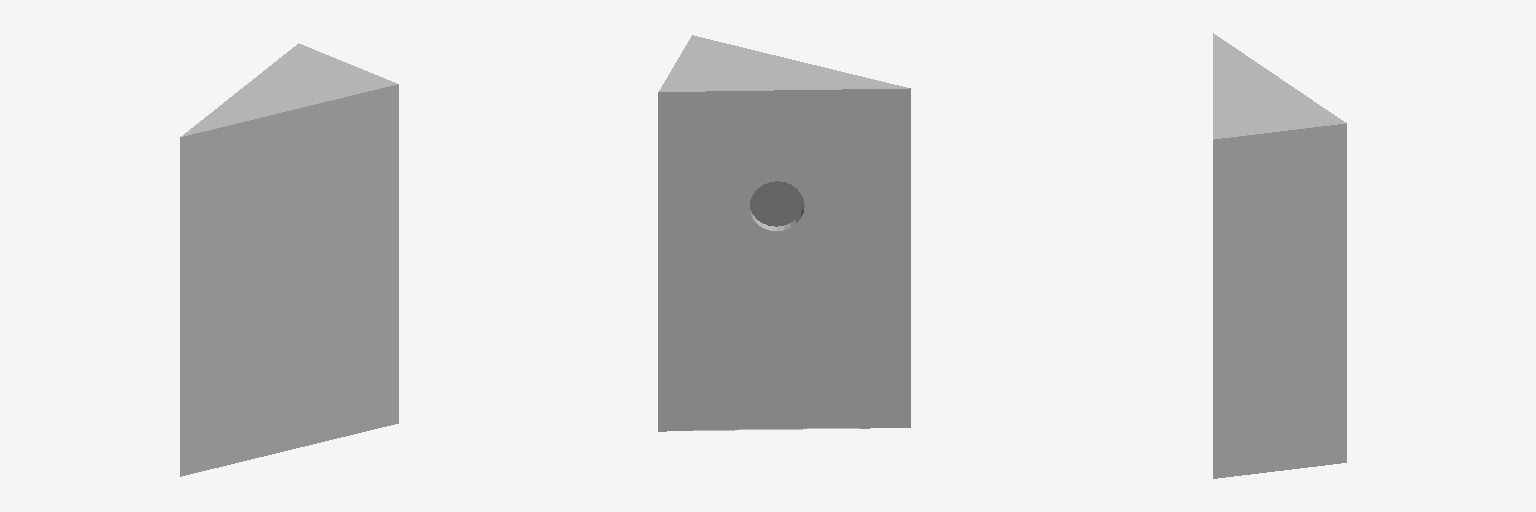
File: solar_plantoid5.obj
3 renders of one model, left to right at view 1: azimuth 30°, elevation 25°; view 2: azimuth 150°, elevation 25°; view 3: azimuth 270°, elevation 25°, orthographic.
Visible parts, largest first — view 1: Mesh1 Group1 Model; view 2: Mesh1 Group1 Model; view 3: Mesh1 Group1 Model.
Part boxes in pixels (x1,y1,x2,y2): Mesh1 Group1 Model: (180,43,398,476); Mesh1 Group1 Model: (658,35,910,431); Mesh1 Group1 Model: (1213,33,1346,478).
Size of the model in its own units: 122 by 180 by 64.46.